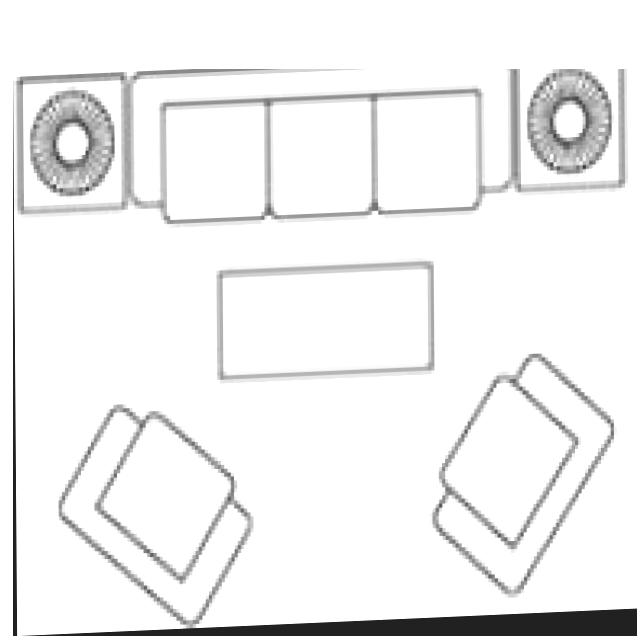sofa: (13, 69, 637, 636)
